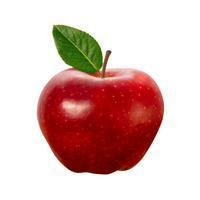apple: (22, 24, 165, 174)
